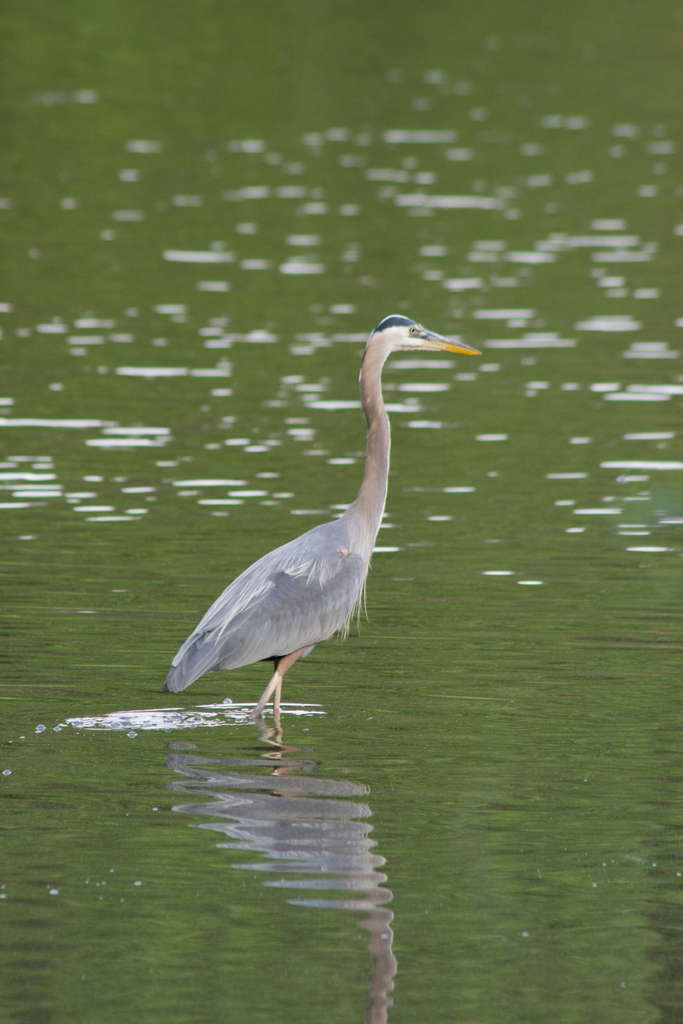Bird: (157, 310, 481, 737)
